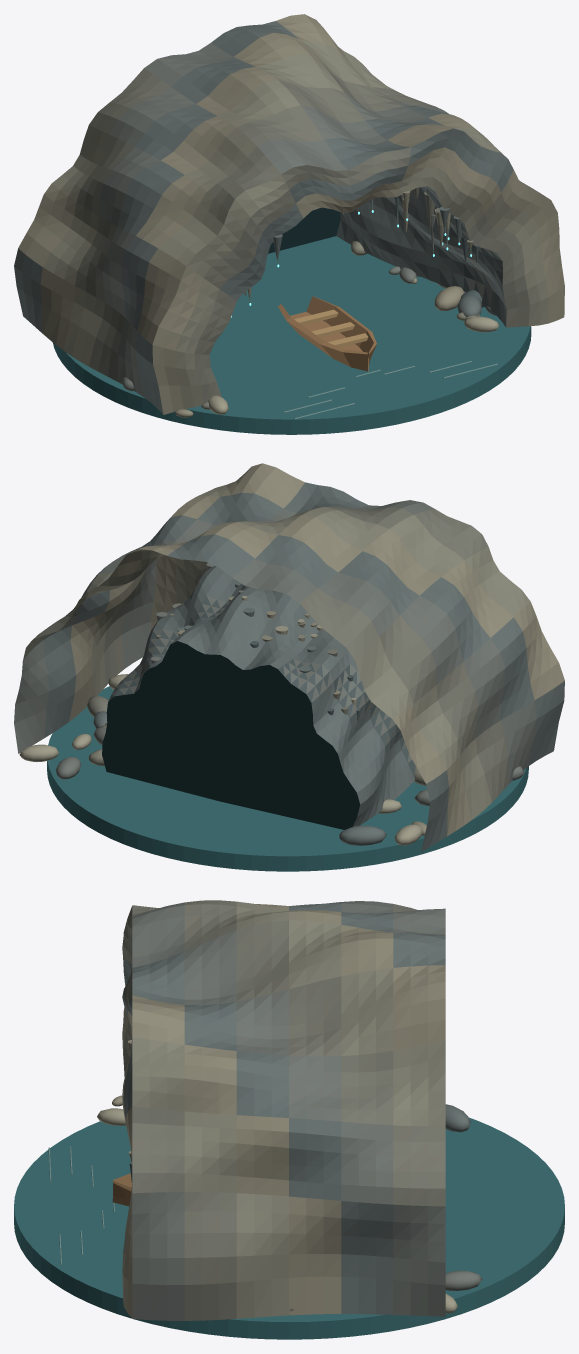
The model's file is glowworm_cave.glb.
3 views of the same model, one above another, from view 1: azimuth 30°, elevation 25°; view 2: azimuth 150°, elevation 25°; view 3: azimuth 270°, elevation 25° (orthographic). The views are drawn at different scales.
Visible parts, largest first — view 1: Cave; view 2: Cave; view 3: Cave.
Part boxes in pixels (x1=…): Cave: x1=14, y1=14, x2=564, y2=434; Cave: x1=14, y1=463, x2=564, y2=871; Cave: x1=14, y1=900, x2=564, y2=1339.
Bounding box in the file's own units: 1 × 0.5932 × 0.9872.
